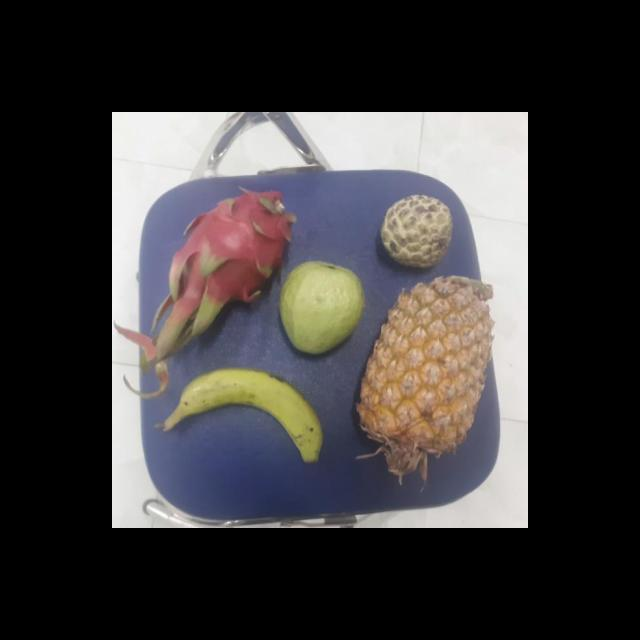Sakya fruit: (377, 195, 453, 268)
banana: (162, 368, 321, 458)
guava: (276, 260, 366, 354)
pineapple: (355, 278, 490, 452)
pitaya: (168, 190, 292, 310)
